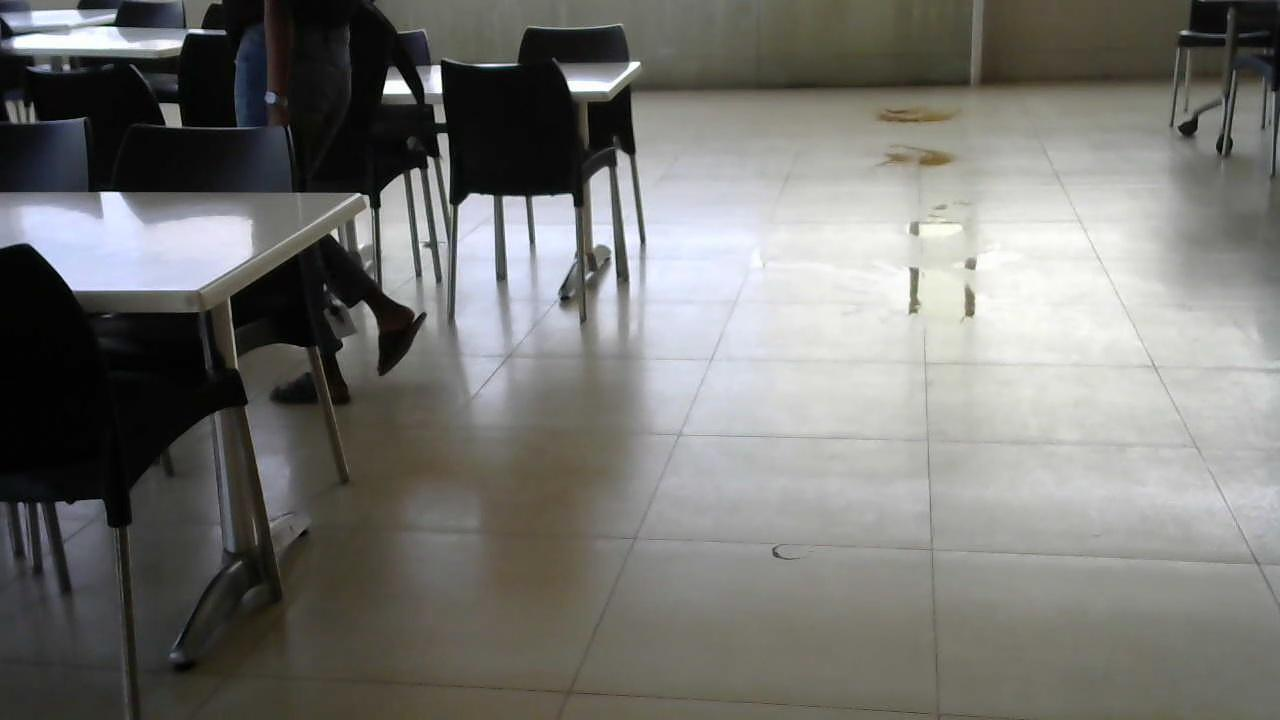dirty_floor: (746, 244, 1023, 323), (897, 198, 976, 240), (875, 138, 963, 175), (872, 100, 964, 129)
